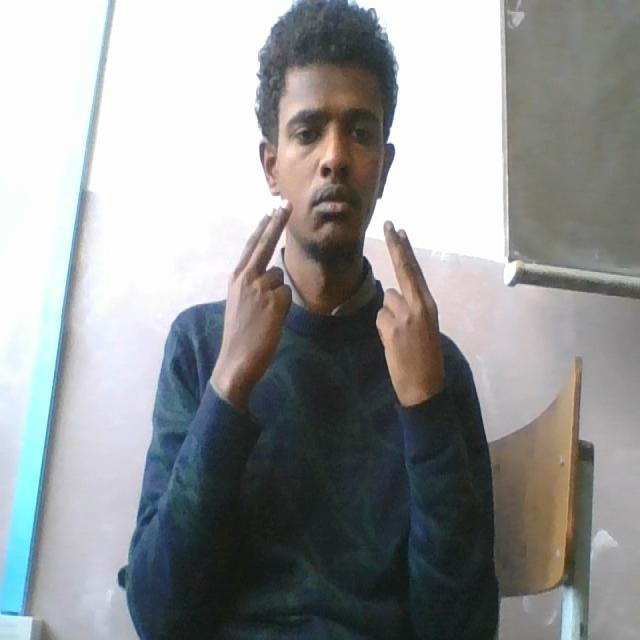zena: (214, 194, 450, 402)
